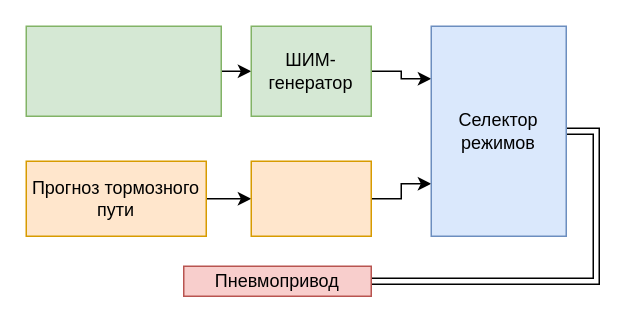
Image size: 626x323. Some labels were removed from this diagram. Here are the shapes that lost their labels. From the top down, the centre of each, then its label:
At (x=123, y=70): "ПИД- регулятор с фильтрацие и анти-насыщением".
At (x=310, y=198): "Адаптивное торможнеие".
